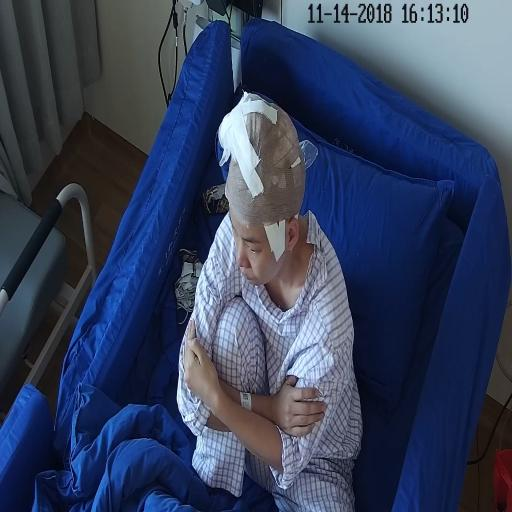Netural: (221, 138, 301, 287)
